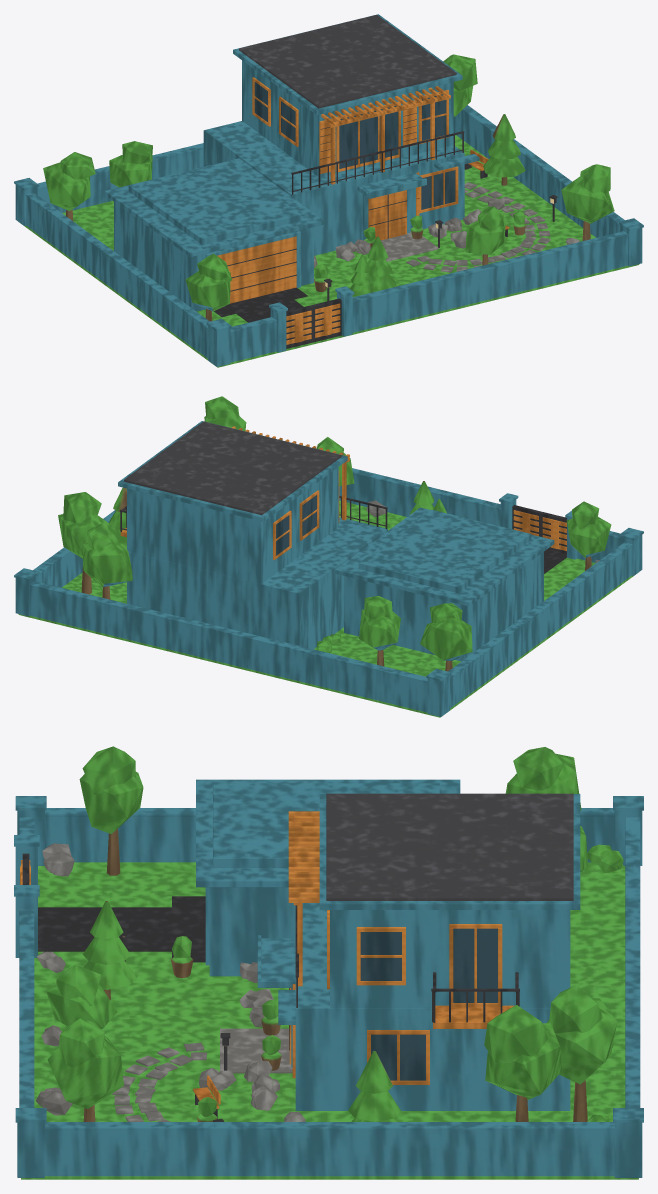
The picture shows the model from 3 angles, top to bottom: view 1: azimuth 30°, elevation 25°; view 2: azimuth 150°, elevation 25°; view 3: azimuth 270°, elevation 25°; orthographic projection. The views are drawn at different scales.
Visible parts, largest first — view 1: RainHouse_Game; view 2: RainHouse_Game; view 3: RainHouse_Game.
Part boxes in pixels (bbox=[...]): RainHouse_Game: bbox=[14, 14, 643, 367]; RainHouse_Game: bbox=[14, 396, 643, 717]; RainHouse_Game: bbox=[14, 746, 643, 1179].
Size of the model in its own units: 22.3 by 7.02 by 18.35.
1 material, 1 textured.
